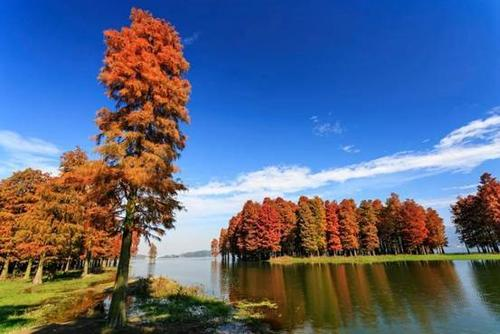mountain: (192, 192, 465, 261)
sky_cloud: (87, 27, 486, 169)
